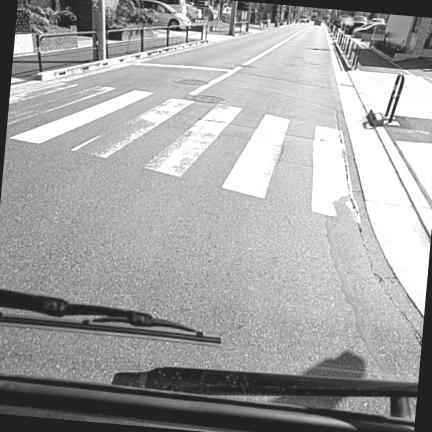Road: (0, 25, 423, 382)
